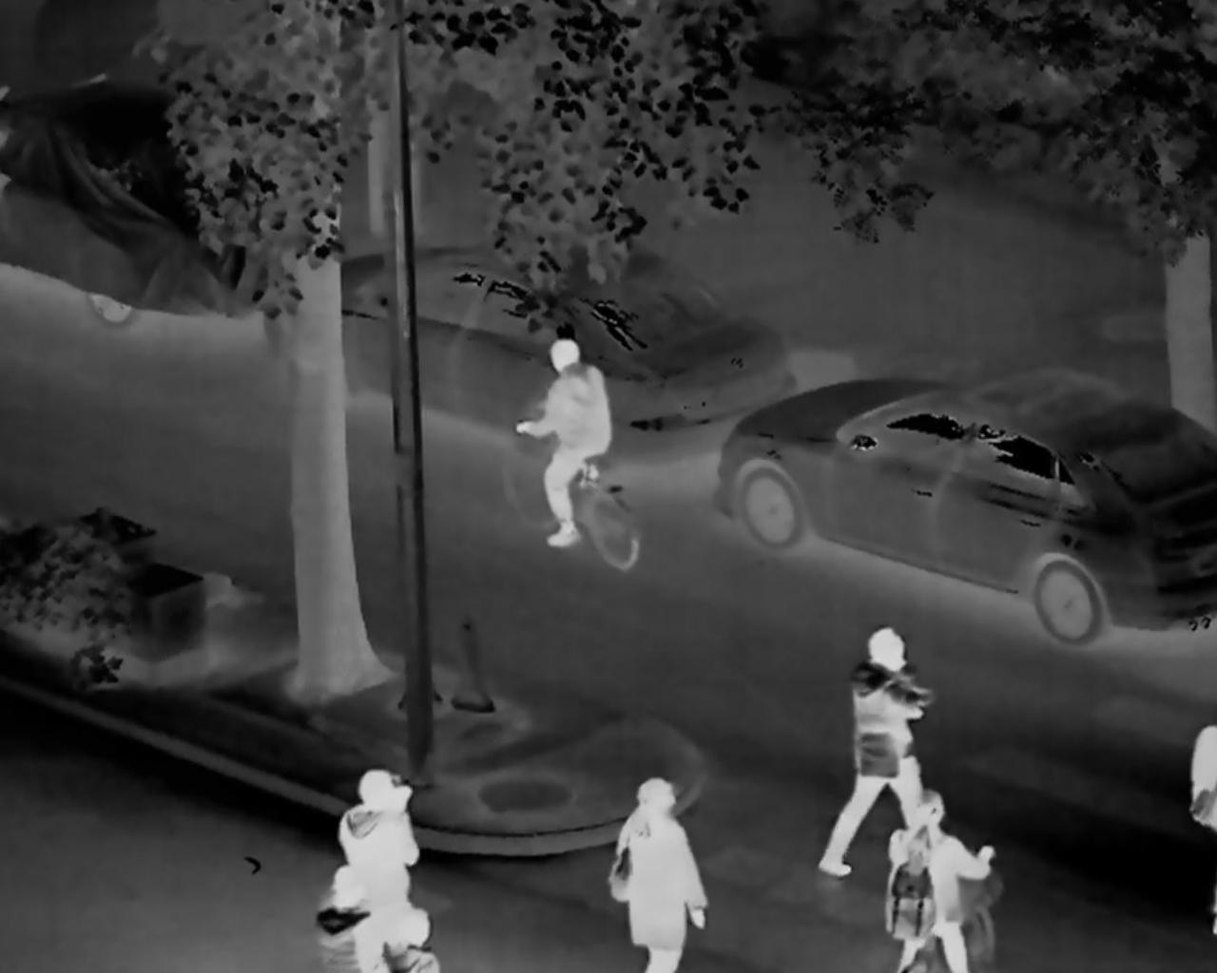person: (821, 623, 939, 882), (507, 334, 621, 562), (337, 777, 464, 967), (605, 772, 712, 973), (889, 797, 997, 973), (314, 861, 424, 973)
